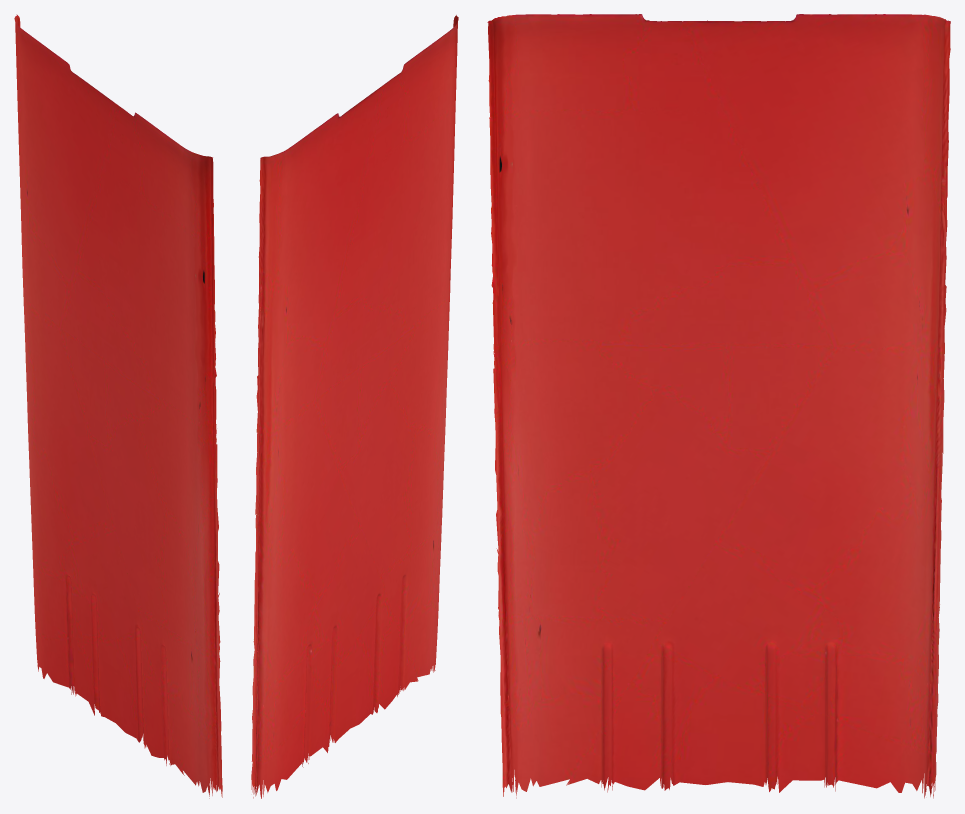
Rendered from box-left.glb.
The picture shows the model from 3 angles, left to right: view 1: azimuth 30°, elevation 25°; view 2: azimuth 150°, elevation 25°; view 3: azimuth 270°, elevation 25°; orthographic projection. The views are drawn at different scales.
Parts seen in each view (by area): view 1: box-left; view 2: box-left; view 3: box-left.
Part boxes in pixels (bbox=[...]): box-left: bbox=[14, 14, 222, 798]; box-left: bbox=[251, 15, 458, 798]; box-left: bbox=[487, 14, 950, 798].
Size of the model in its own units: 0.0355 by 0.7664 by 0.4167.
1 material, 1 textured.
